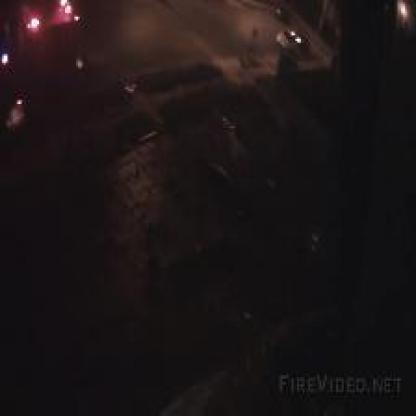other: (16, 0, 90, 39)
